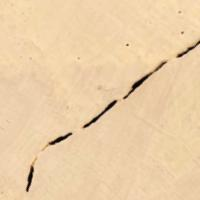crack: (0, 34, 199, 199)
